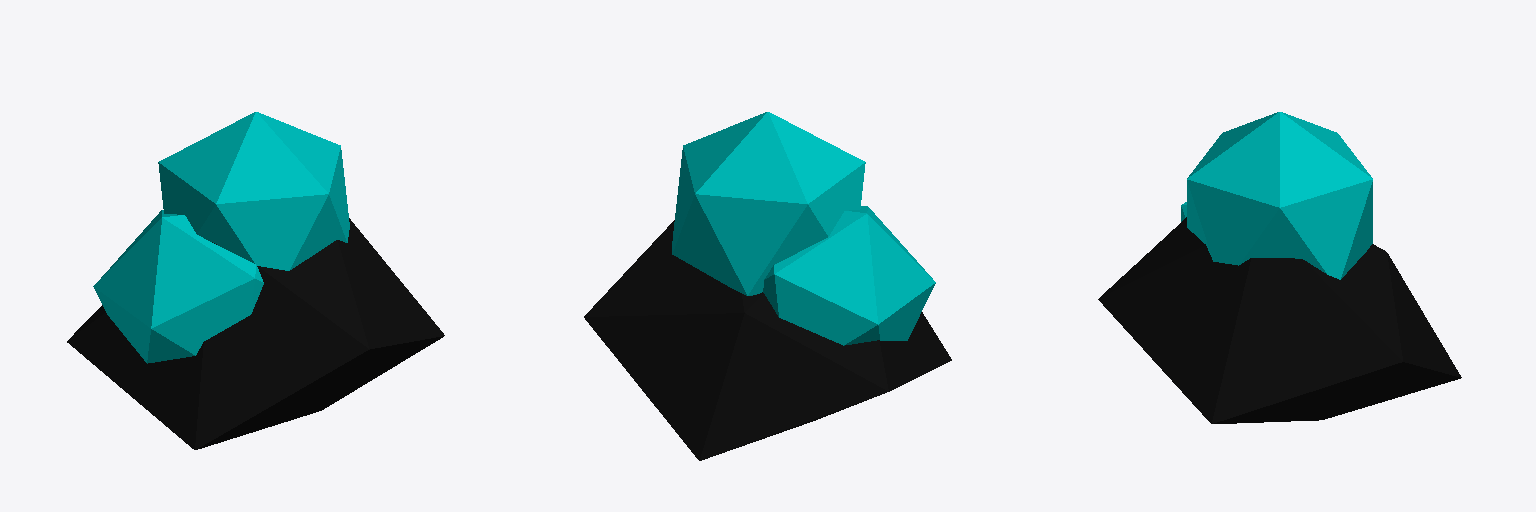
3 views of the same model, side by side, from view 1: azimuth 30°, elevation 25°; view 2: azimuth 150°, elevation 25°; view 3: azimuth 270°, elevation 25° (orthographic).
Parts seen in each view (by area): view 1: Icosphere, Cube, Cube.001; view 2: Icosphere, Cube, Cube.001; view 3: Icosphere, Cube.
Part boxes in pixels (x1,y1,x2,y2): Icosphere: (67, 218, 444, 449); Cube: (158, 112, 349, 270); Cube.001: (93, 210, 263, 363); Icosphere: (584, 220, 951, 460); Cube: (672, 112, 865, 295); Cube.001: (763, 206, 935, 345); Icosphere: (1098, 217, 1461, 423); Cube: (1187, 112, 1372, 279).
Size of the model in its own units: 3.27 by 2.91 by 3.32.
Materials: 2 (1 with a texture image).